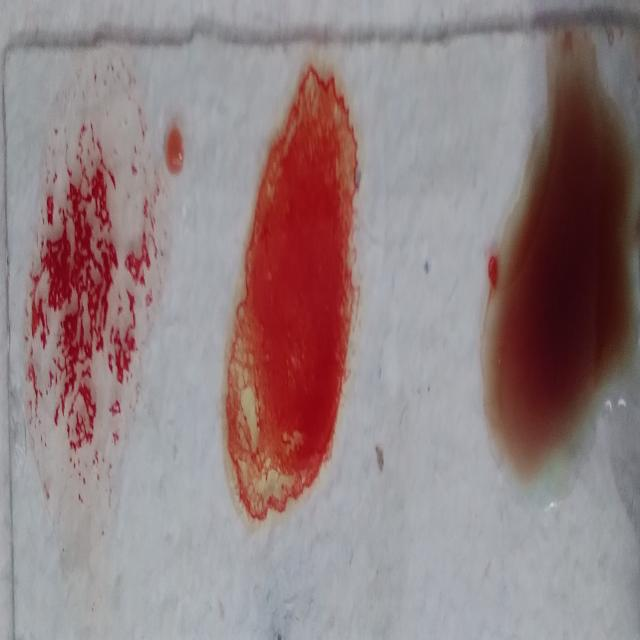B: (226, 48, 358, 525)
D: (27, 51, 164, 541)
